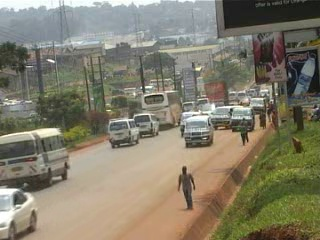Car: (0, 181, 43, 239)
